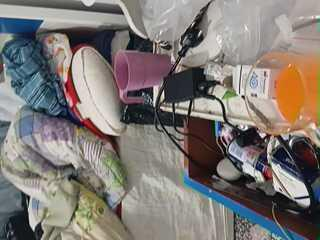cup: (128, 182, 251, 239), (181, 86, 252, 128), (140, 184, 191, 225), (200, 86, 251, 98)
